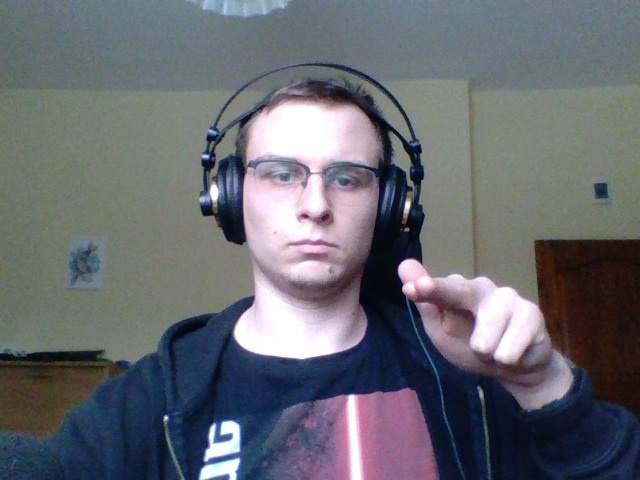no: (387, 234, 563, 382)
